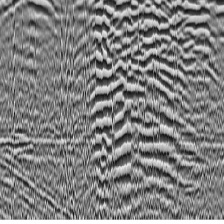cavities: (90, 1, 211, 189)
